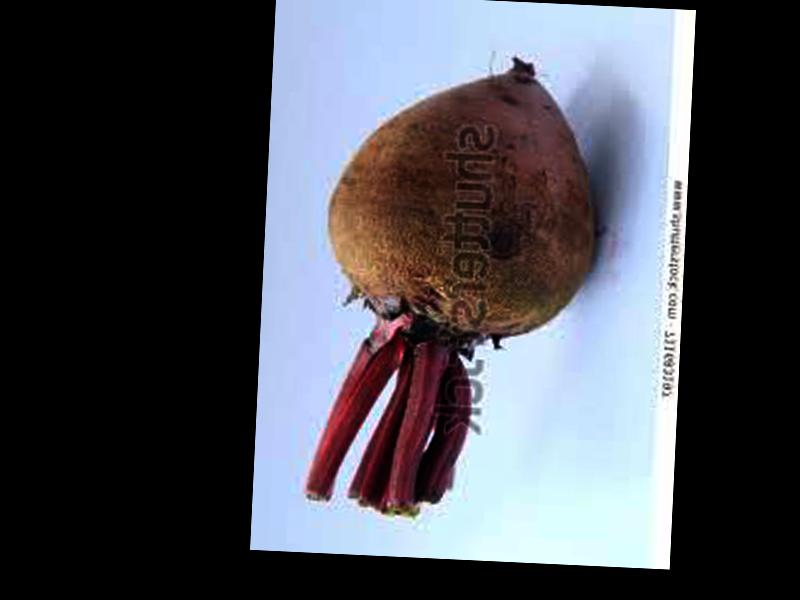Beet: (310, 56, 601, 515)
